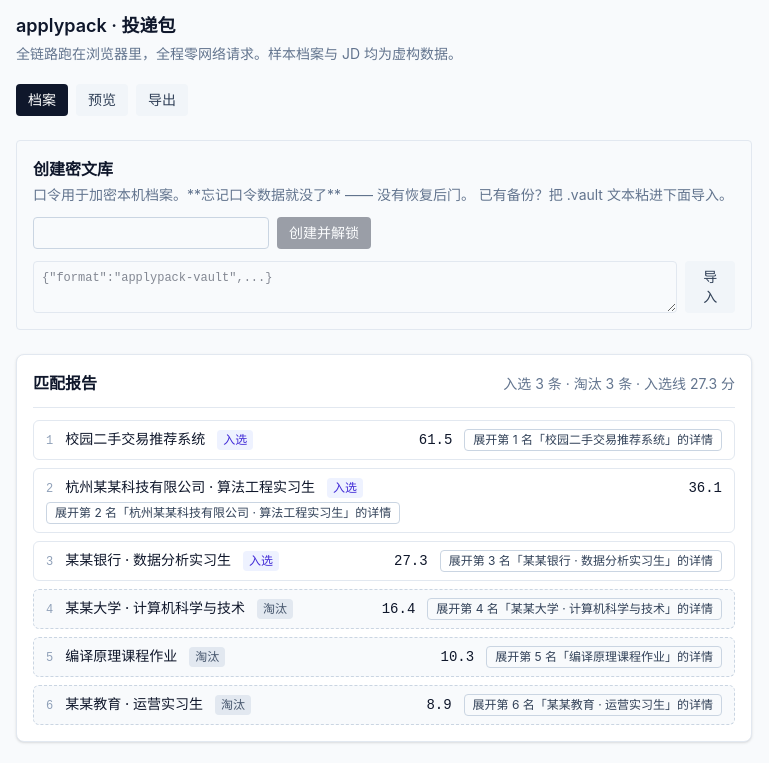
Test: App —— 三块功能接线 › 创建失败必须可见 —— 静默无反应是被禁止的状态
This screenshot has width=769, height=763.
Type "test-pass" into the password field named "新库口令" at (151,233), box [33, 217, 269, 249]
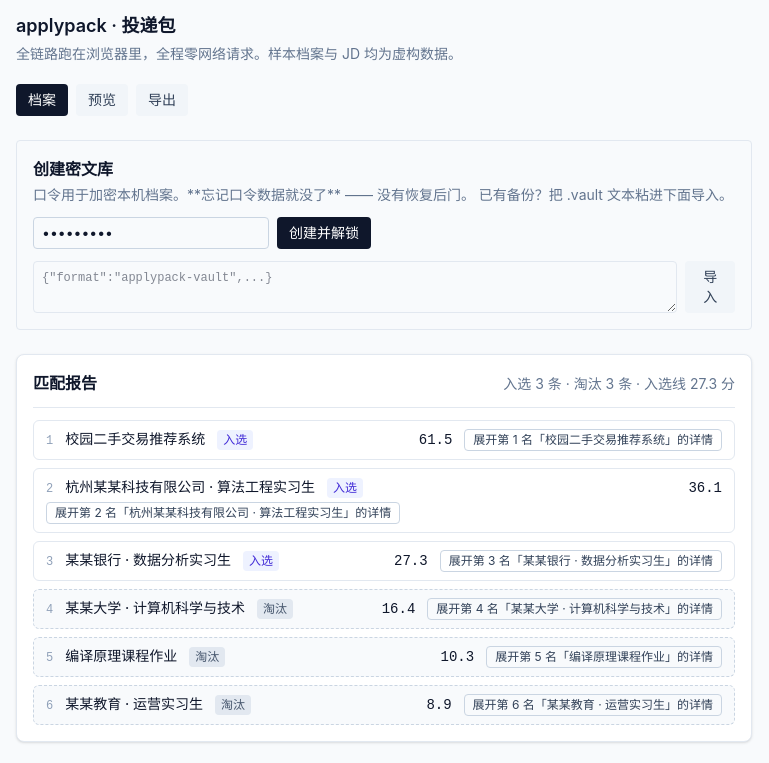
Click the button with test id "vault-create" at (324,233), box [277, 217, 371, 249]
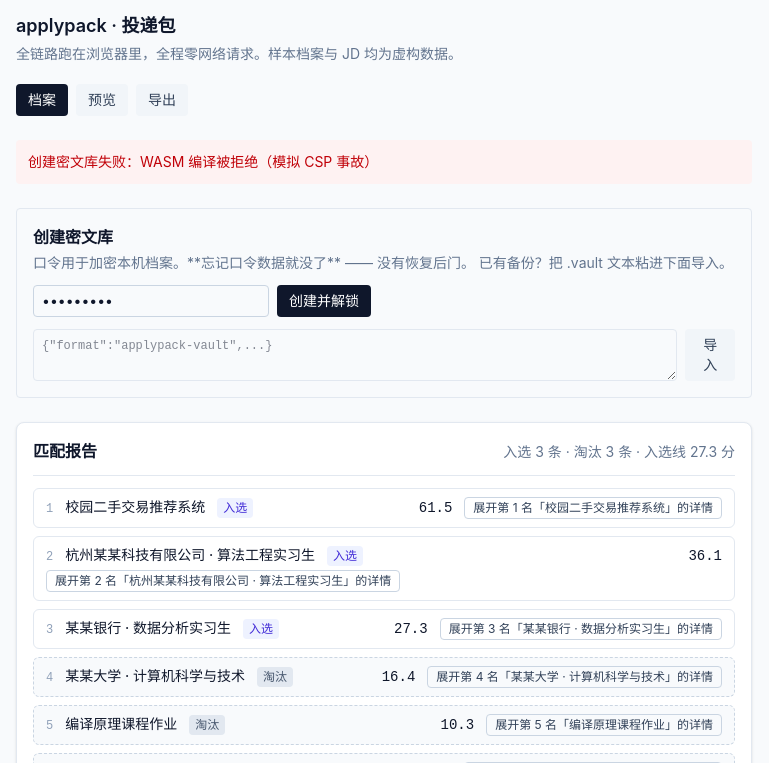
Expected: the button with test id "vault-create" is shown, [277, 285, 371, 317]
Expected: the message shows "创建密文库失败", [28, 153, 378, 170]
Expected: the message shows "WASM 编译被拒绝", [28, 153, 378, 170]
